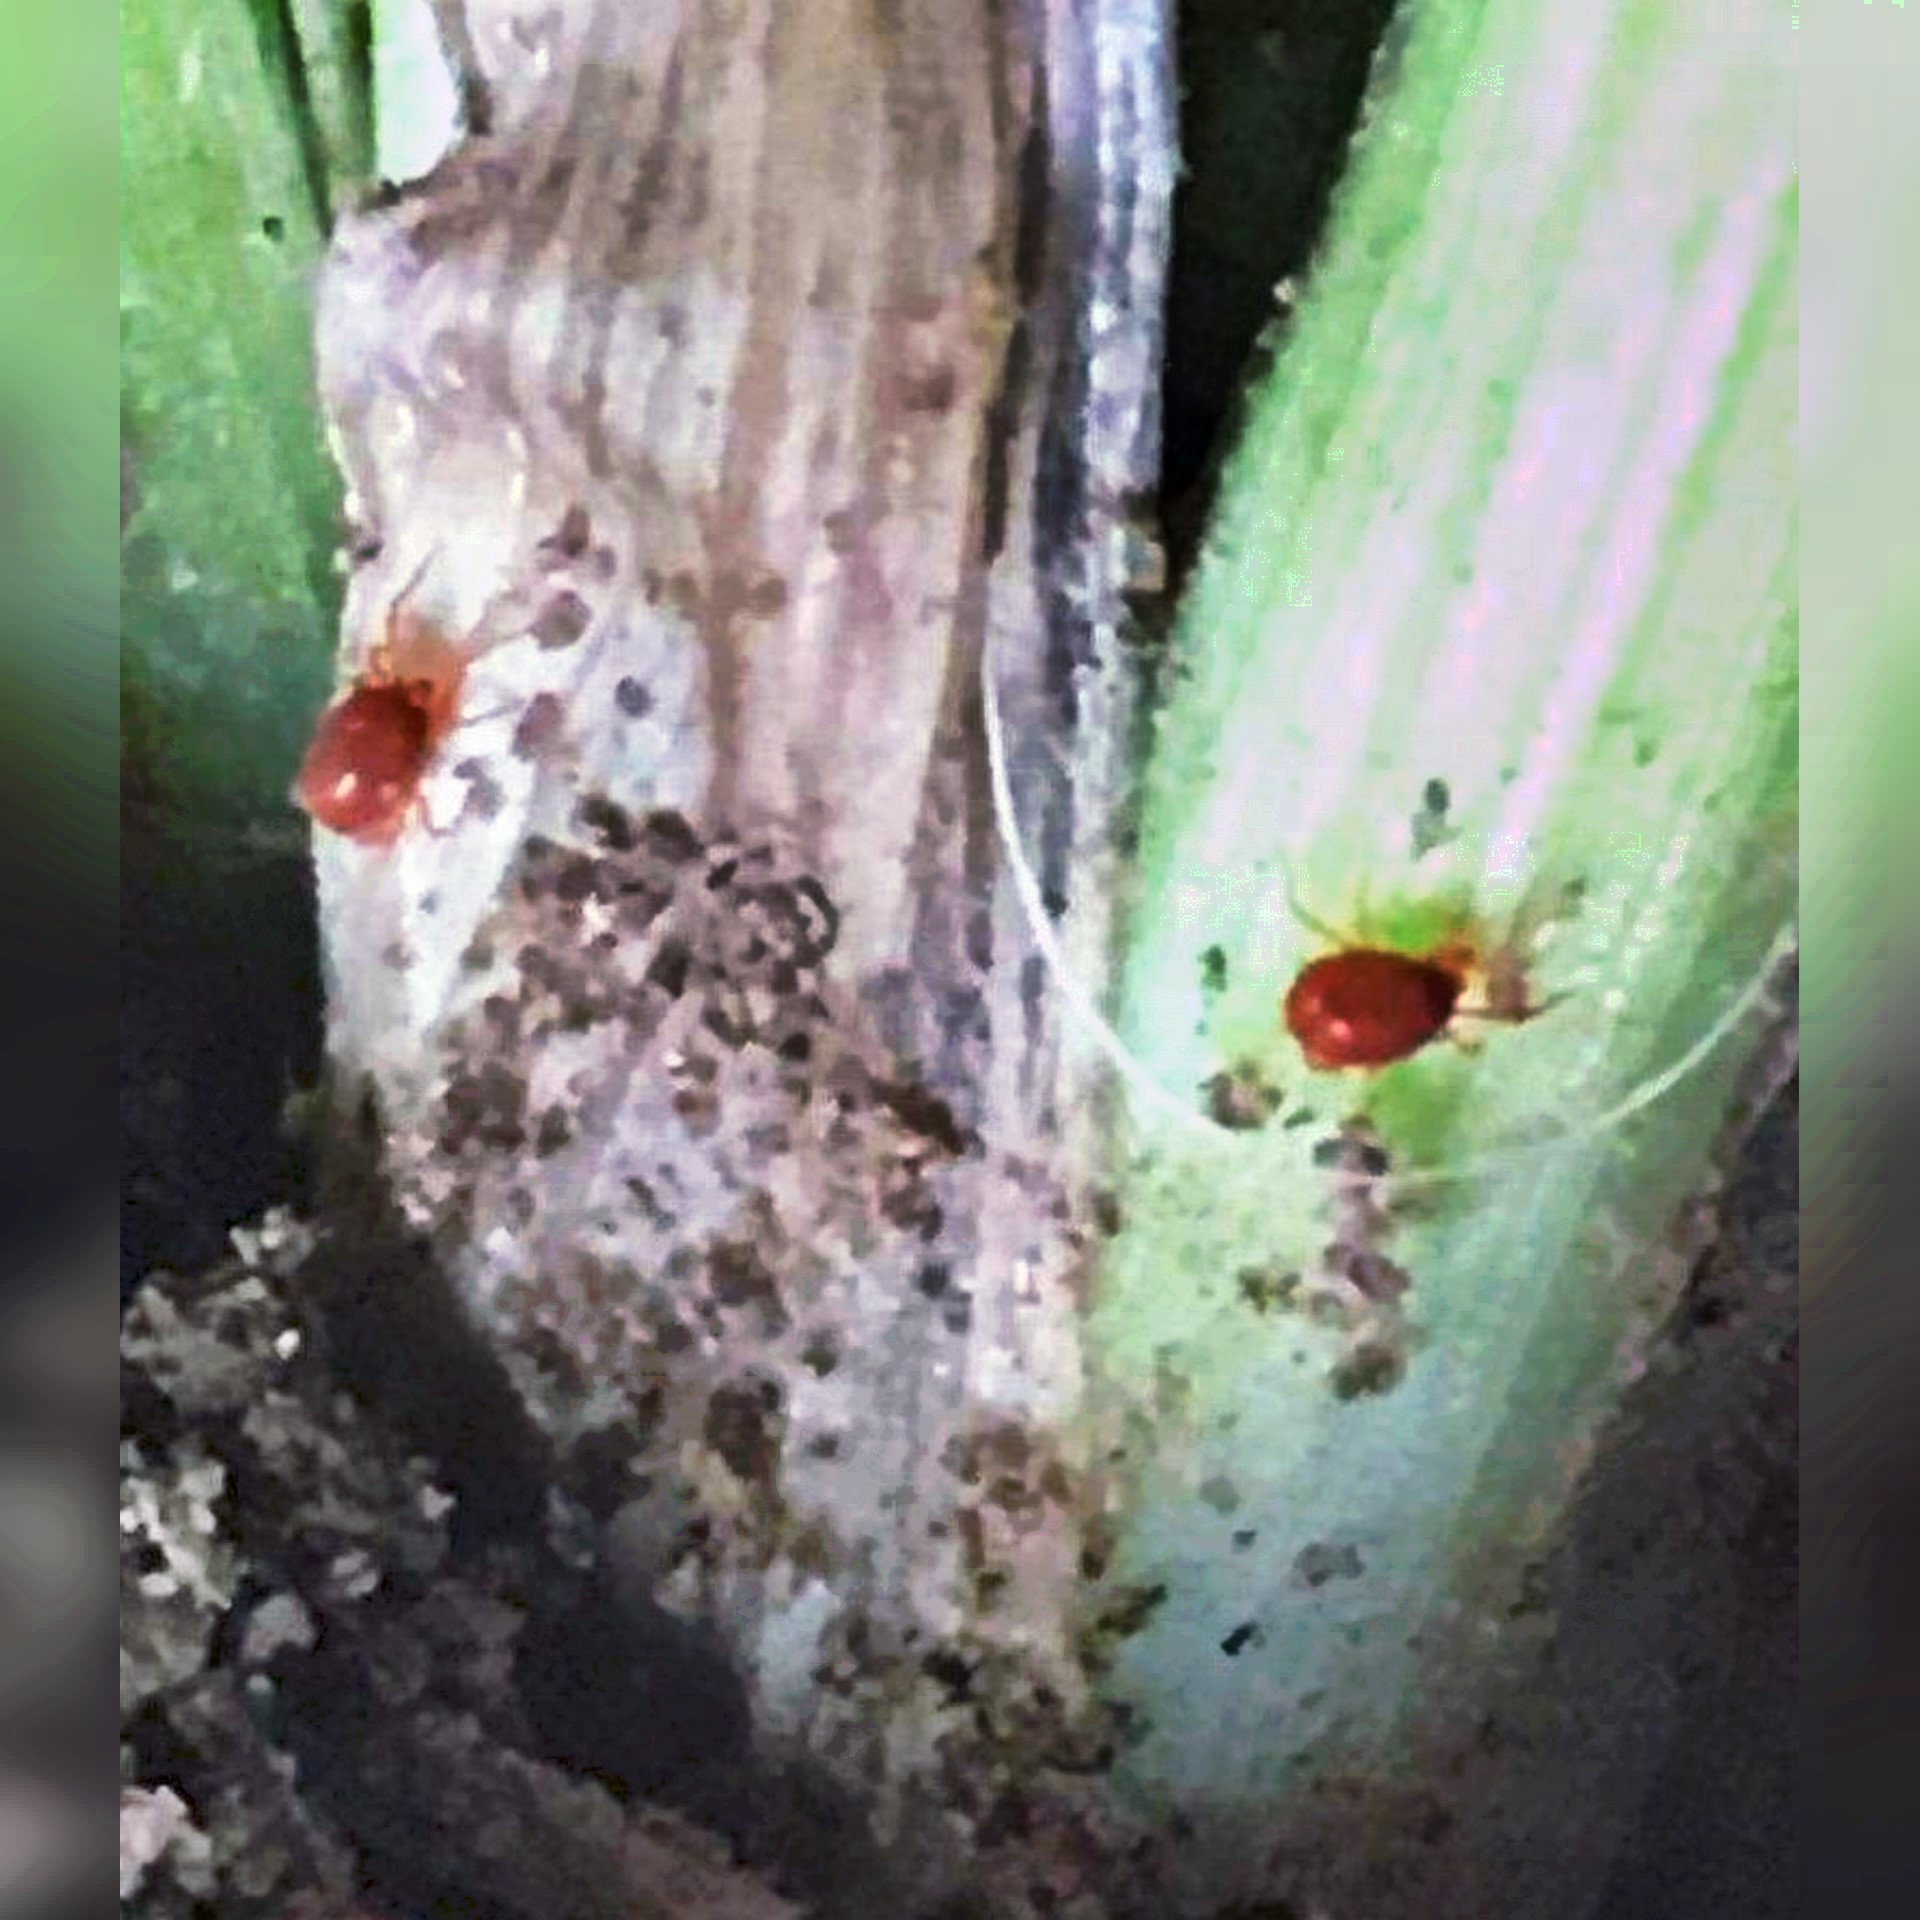Wheat Red Spider: (255, 529, 549, 874)
